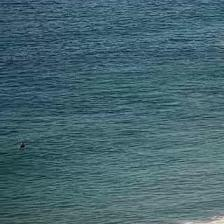surfer: (20, 142, 26, 149)
